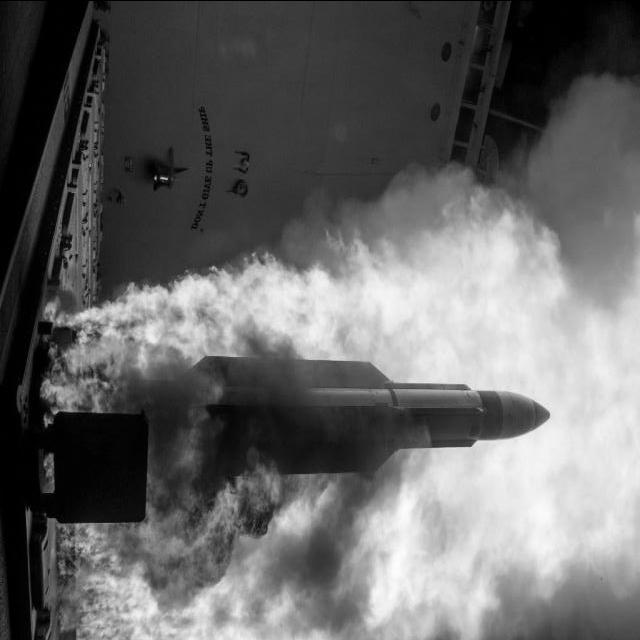missile: (210, 375, 488, 419)
